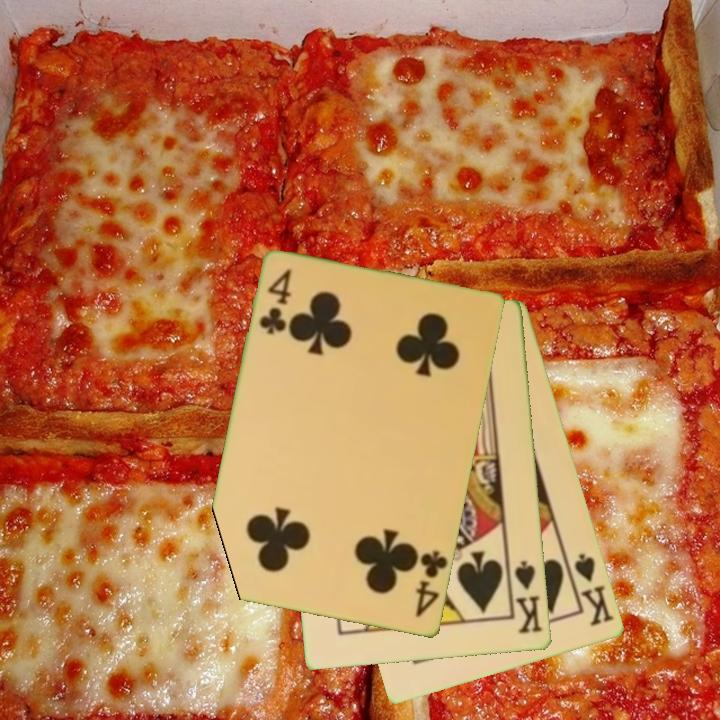4c: (412, 547, 451, 621), (255, 266, 295, 338)
Ks: (564, 550, 617, 629), (506, 557, 547, 637)
